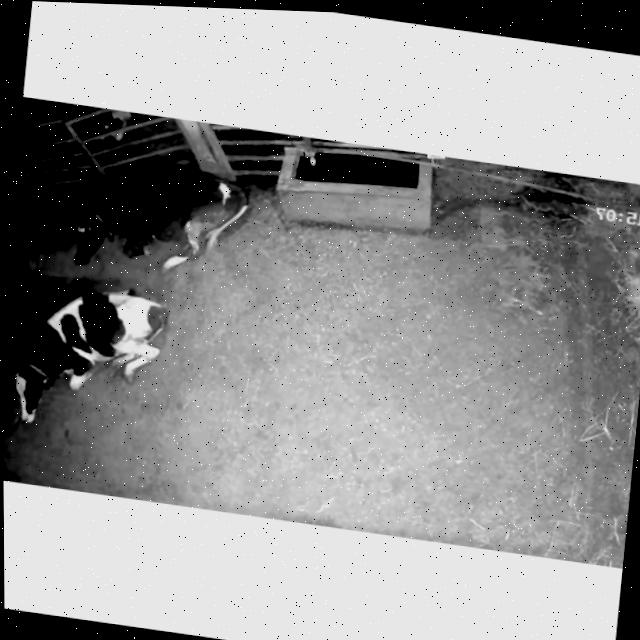lay: (46, 135, 270, 297), (2, 264, 188, 454)
